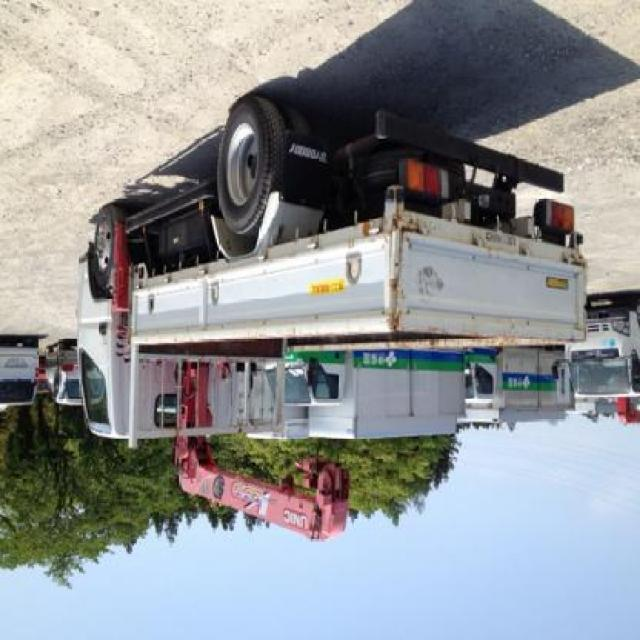truck: (79, 100, 591, 547)
